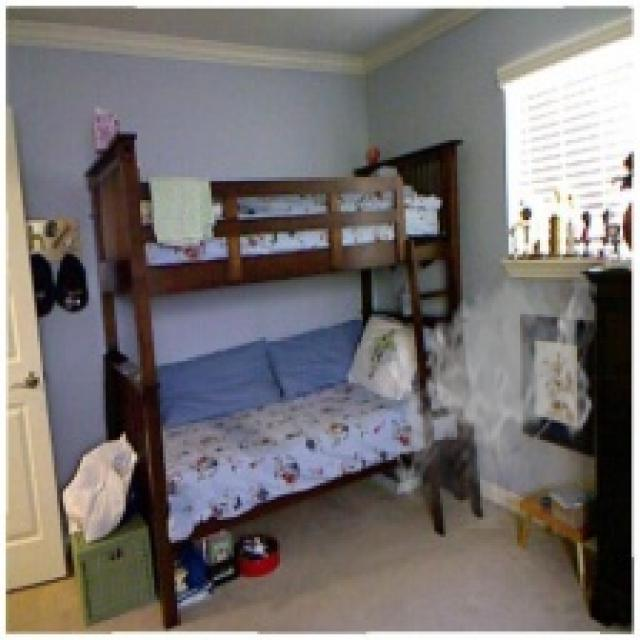smoke: (389, 268, 597, 528)
